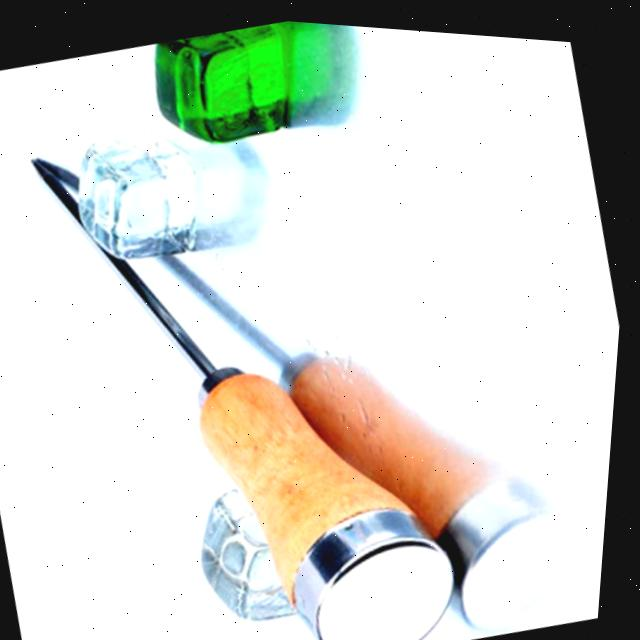ice pick: (12, 47, 620, 640), (2, 72, 508, 640)
